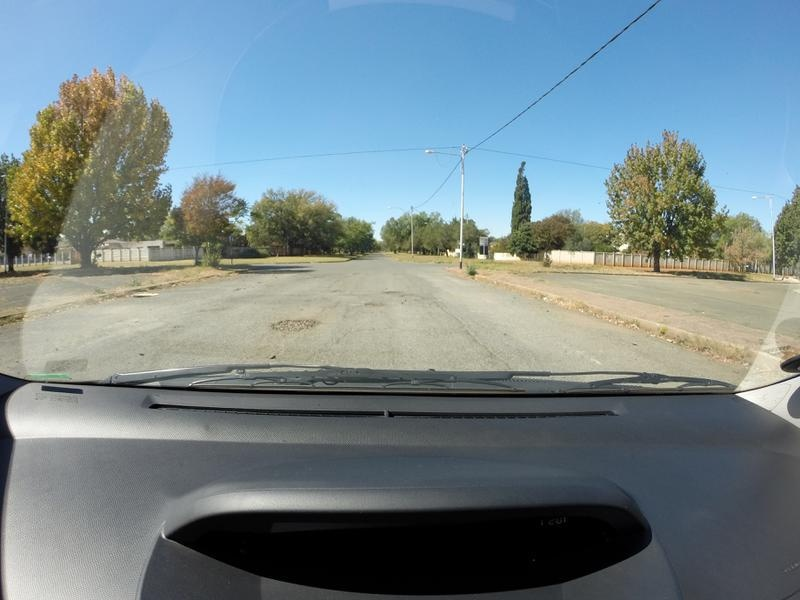pothole: (261, 318, 317, 332), (353, 301, 384, 311)
